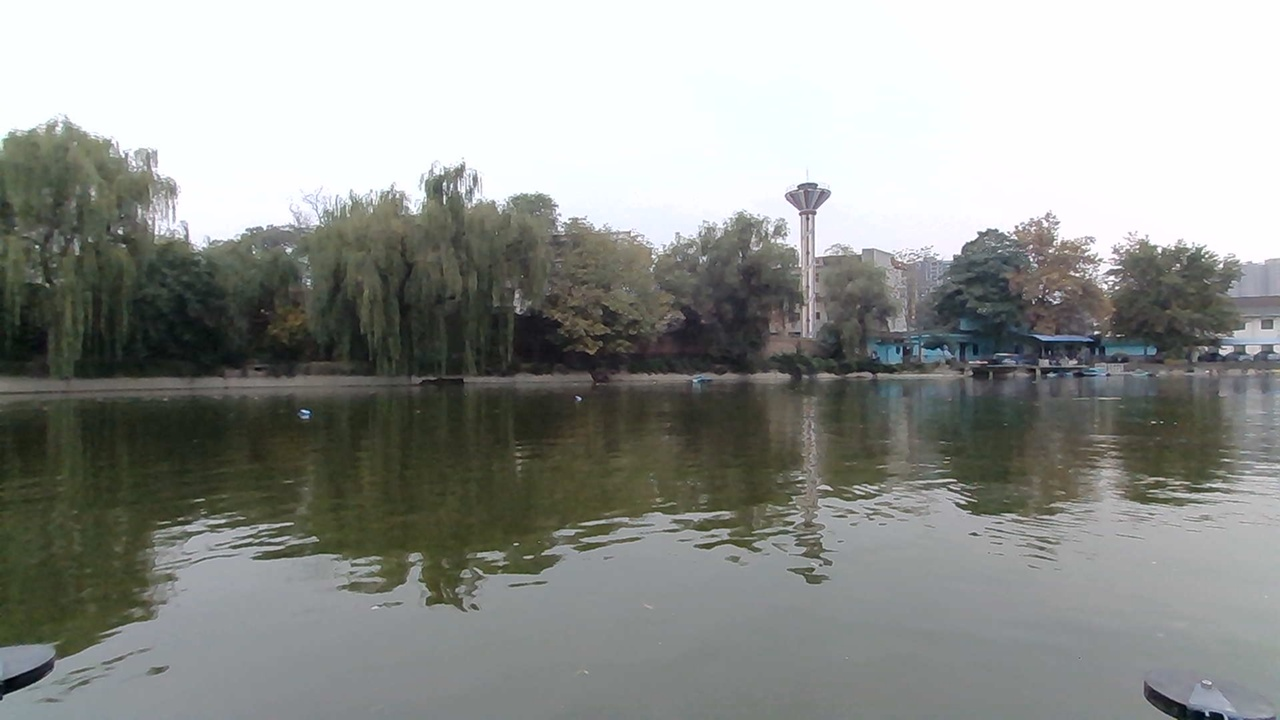bottle: (290, 406, 321, 424)
